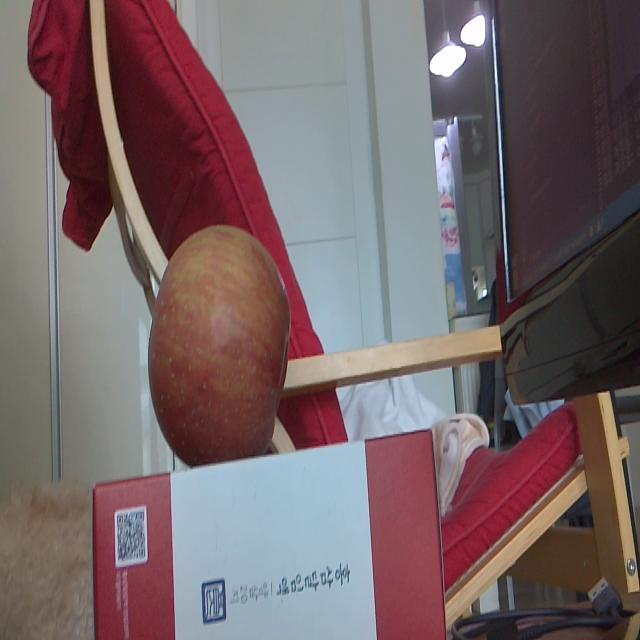apple: (145, 218, 293, 464)
